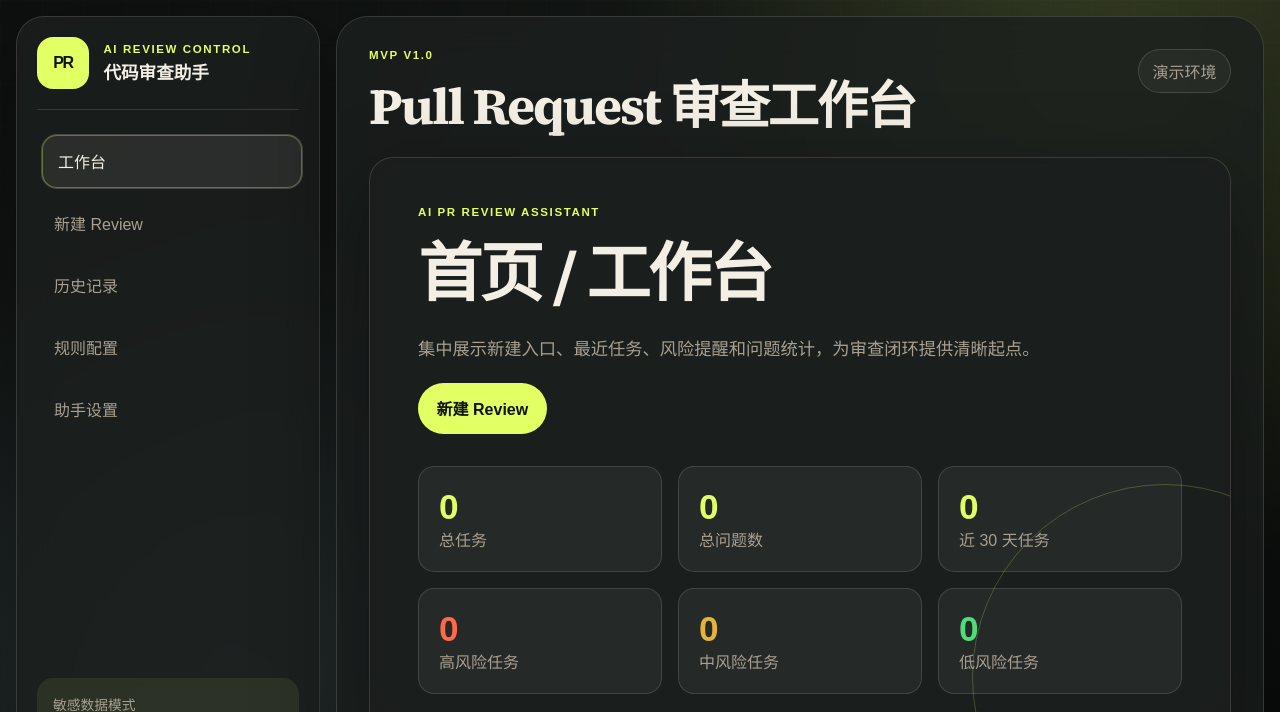
Test: application shell routes › navigates between MVP pages without dead links
Step 1. Click the link "新建 Review" → (98, 225), box [54,216,143,233]
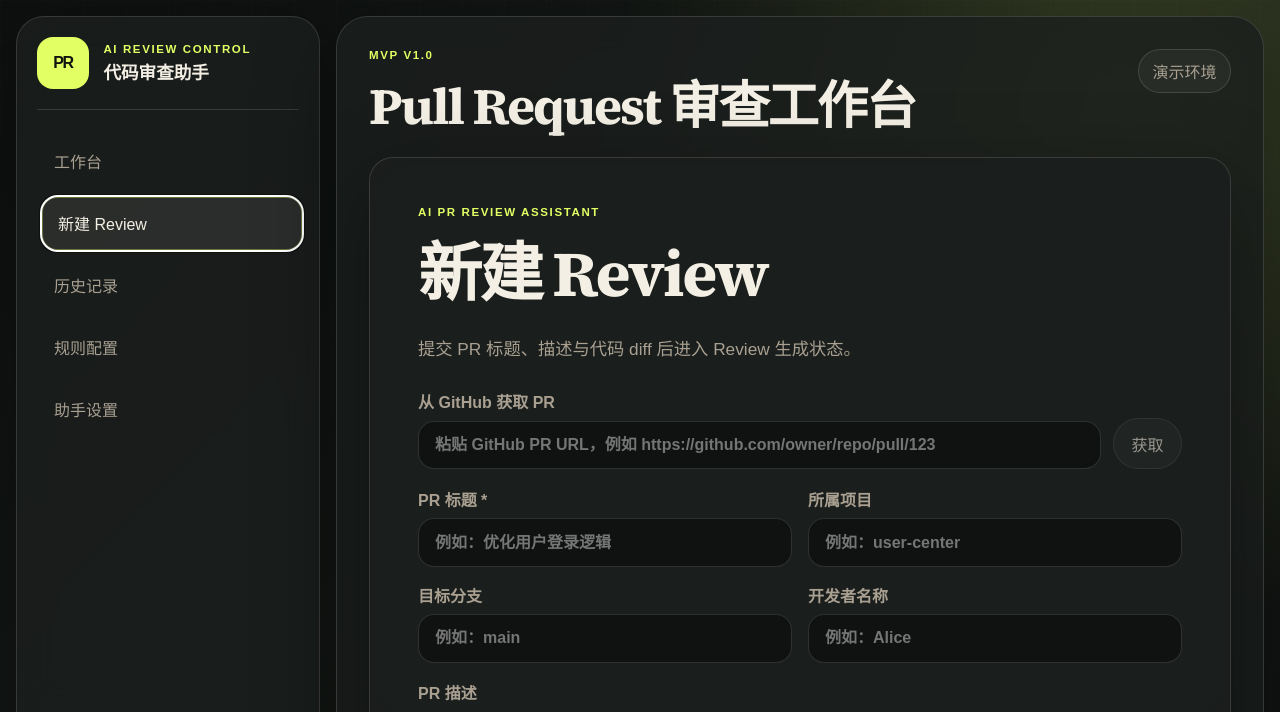
Result: the heading "新建 Review" is shown at [418,230,767,317]
Step 2. Click the link "历史记录" → (86, 287), box [54,278,118,295]
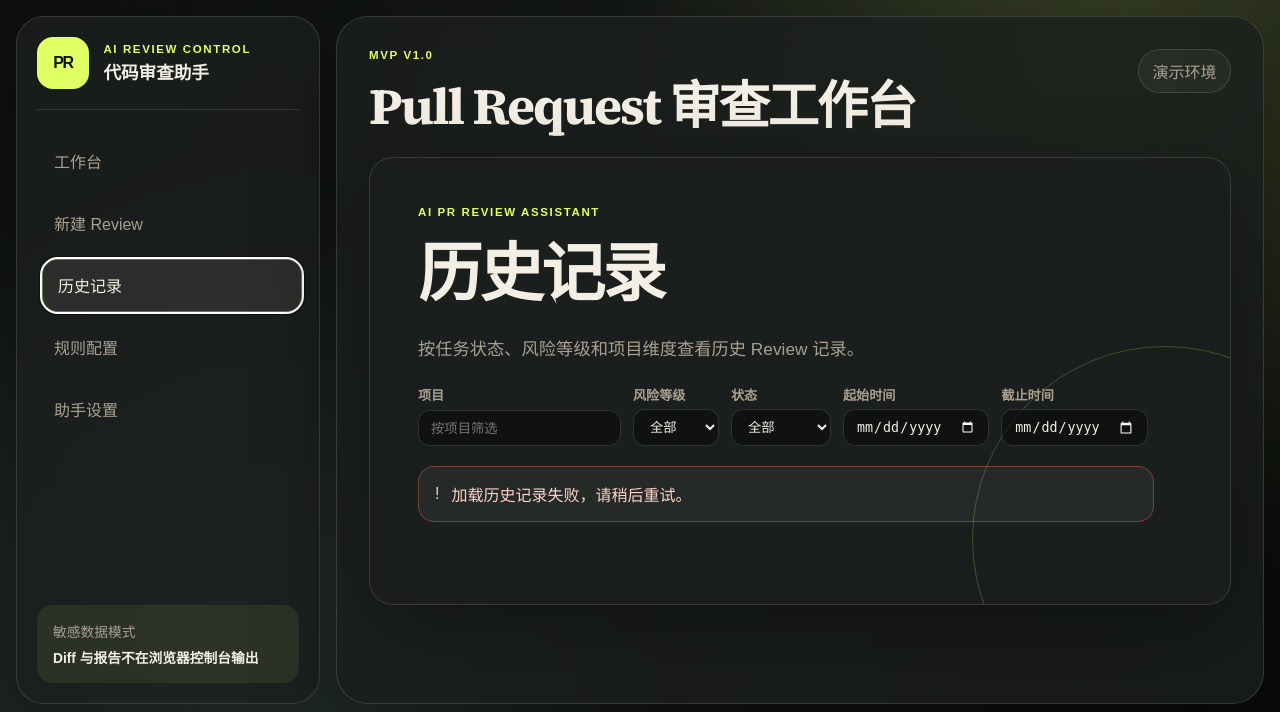
Result: the heading "历史记录" is shown at [418,230,664,317]
Step 3. Click the link "规则配置" → (86, 349), box [54,340,118,357]
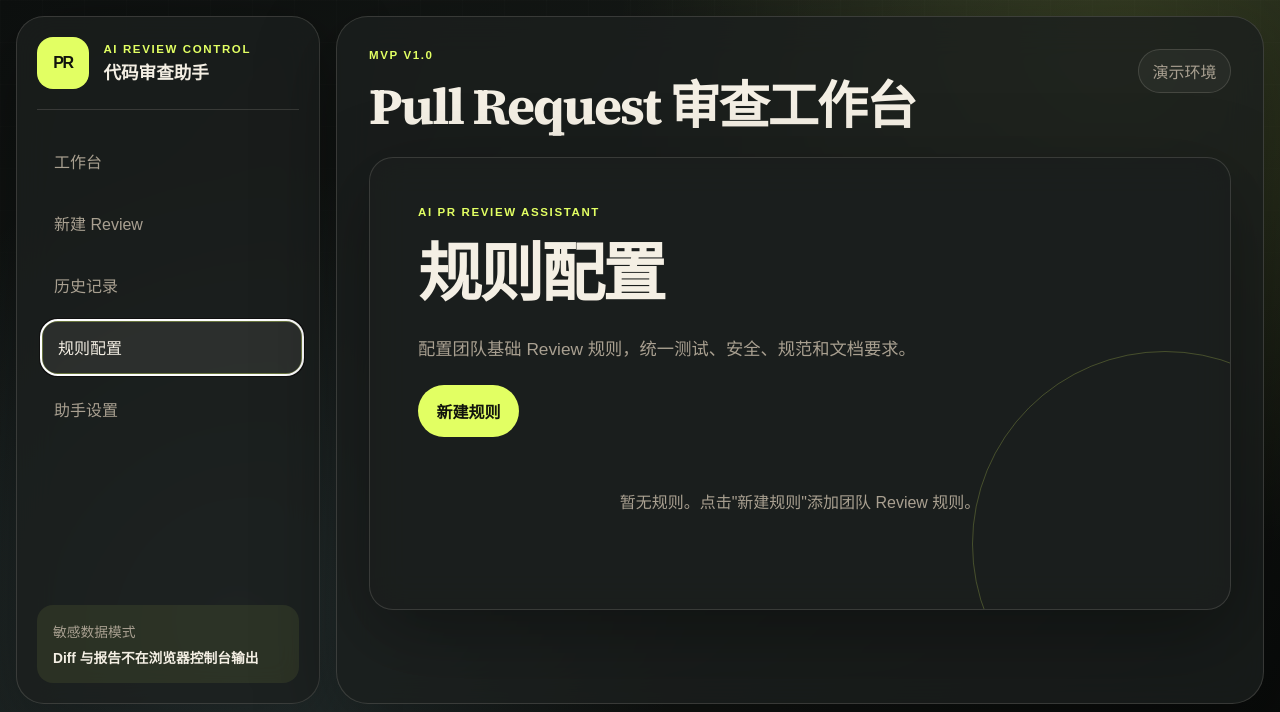
Result: the heading "规则配置" is shown at [418,230,664,317]
Step 4. Click the link "助手设置" → (86, 411), box [54,402,118,419]
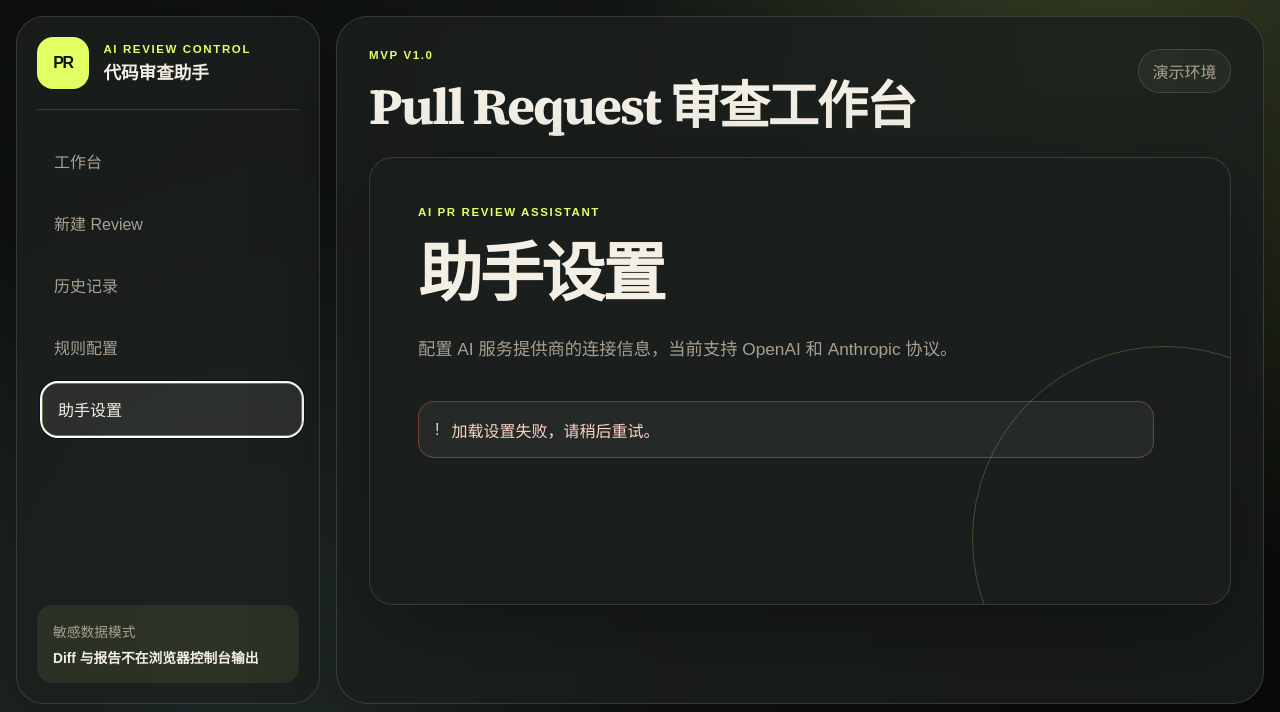
Result: the heading "助手设置" is shown at [418,230,664,317]
